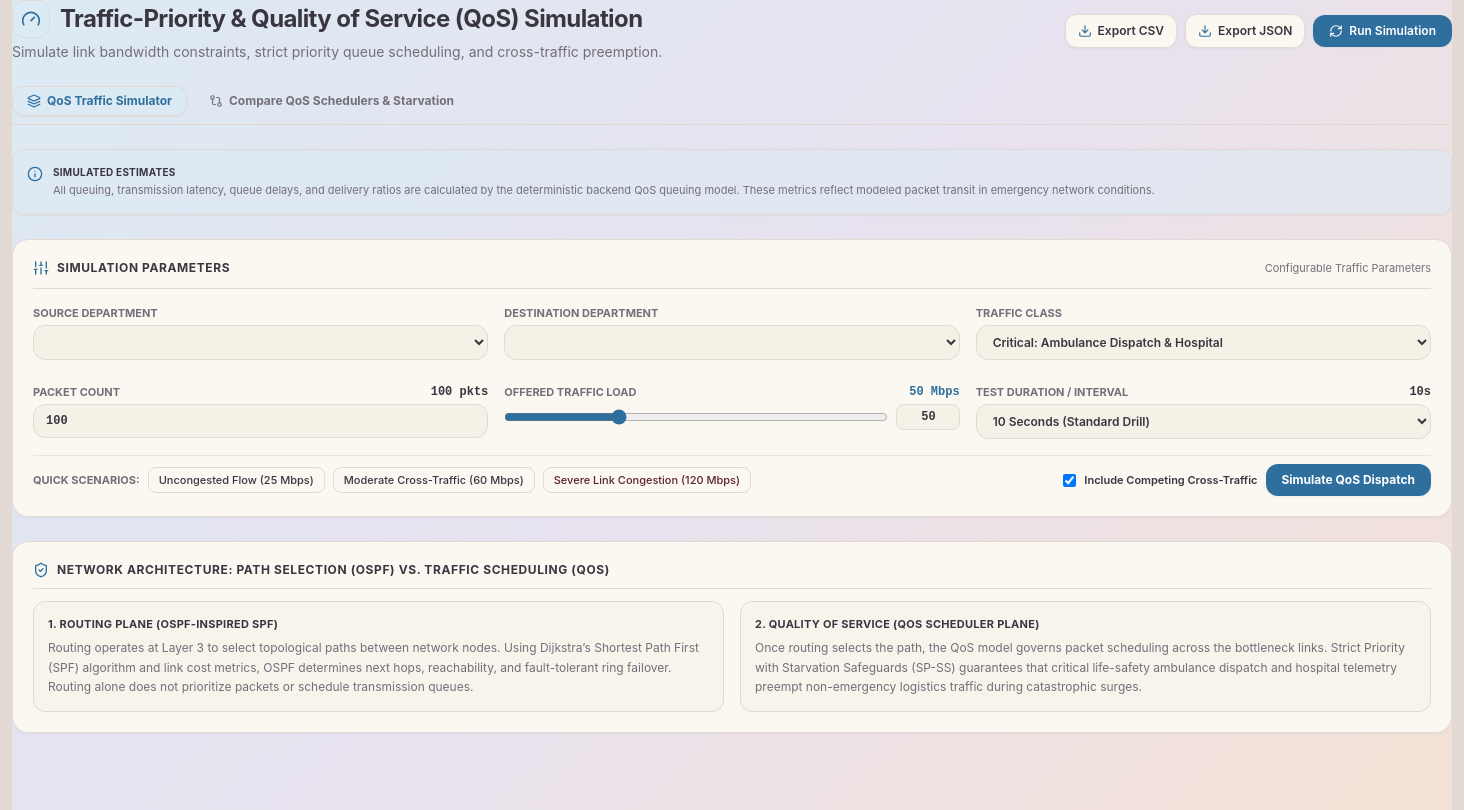
it: Multi-Algorithm and QoS Scheduler Integration Suite › renders QoS Scheduler Comparison tab on TrafficPage and reveals starvation behavior
The image size is (1464, 810).
Click the button "Compare QoS Schedulers & Starvation": (332, 101) [195,87,468,115]
(page scrolled)
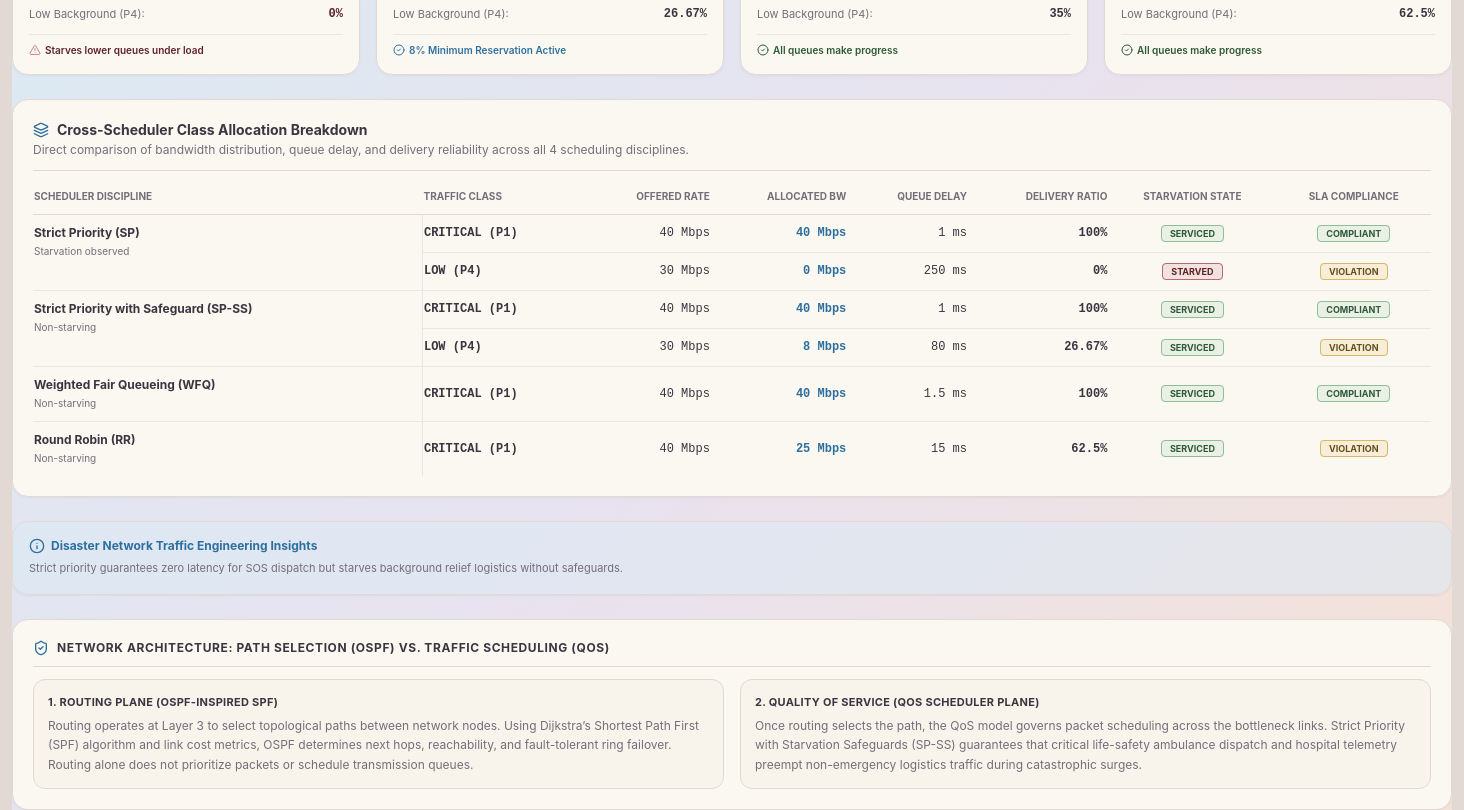
Expected: the heading "Cross-Scheduler Class Allocation Breakdown" is shown, [33,121,368,138]
Expected: the text "Disaster Network Traffic Engineering Insights" is shown, [29,538,317,554]
